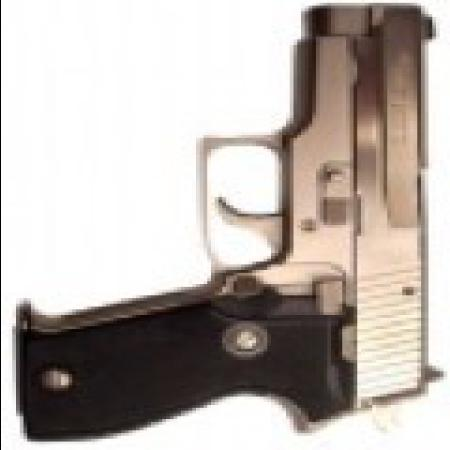Pistol: (19, 3, 442, 436)
